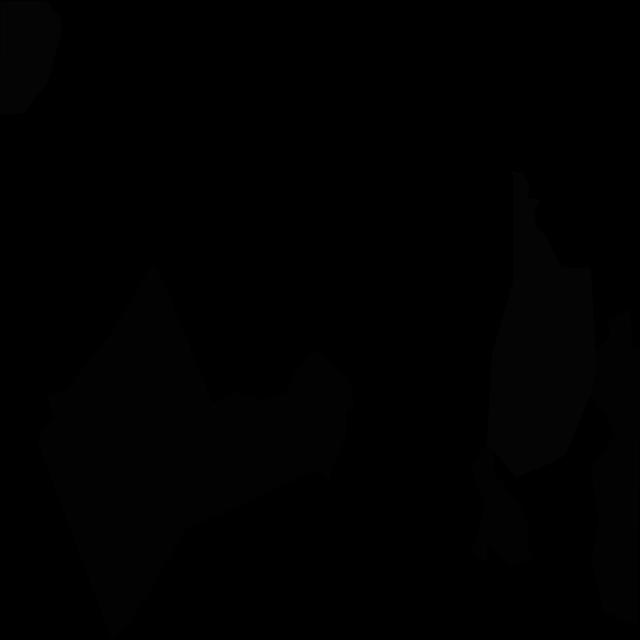cardboard: (36, 266, 354, 639), (590, 431, 640, 627), (470, 443, 533, 564), (591, 308, 640, 434)
soft_plastic: (487, 170, 597, 477), (0, 0, 62, 115)
